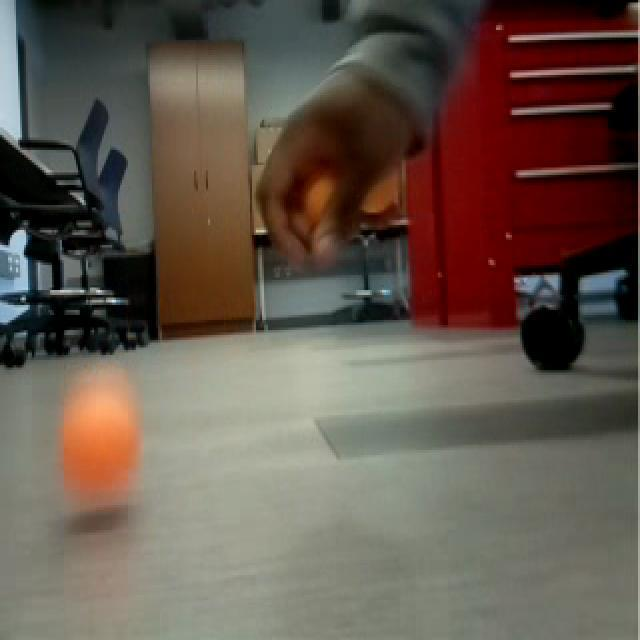ping-pong-ball: (56, 376, 141, 498)
